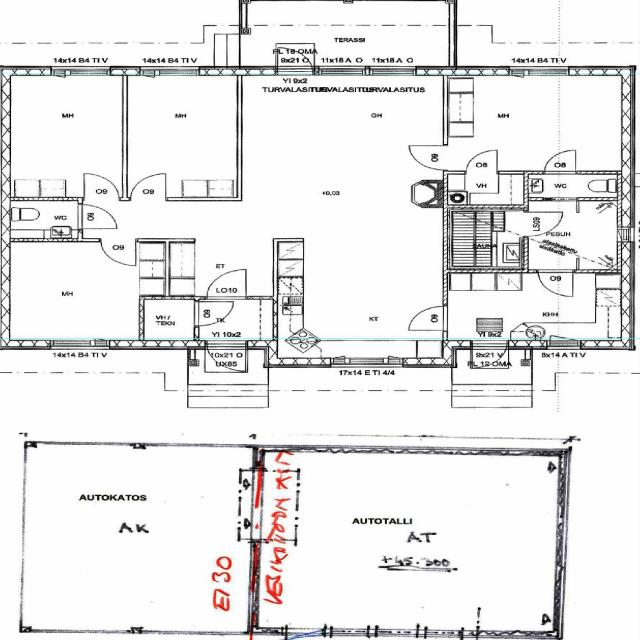door: (206, 340, 246, 377), (206, 268, 247, 299), (277, 42, 312, 75), (472, 341, 506, 374), (538, 269, 573, 298), (521, 212, 563, 236), (84, 173, 120, 201), (100, 238, 136, 266), (131, 173, 166, 201), (408, 146, 448, 170), (408, 306, 448, 330), (194, 302, 234, 326), (77, 204, 116, 228), (466, 149, 497, 175), (545, 150, 575, 174)
